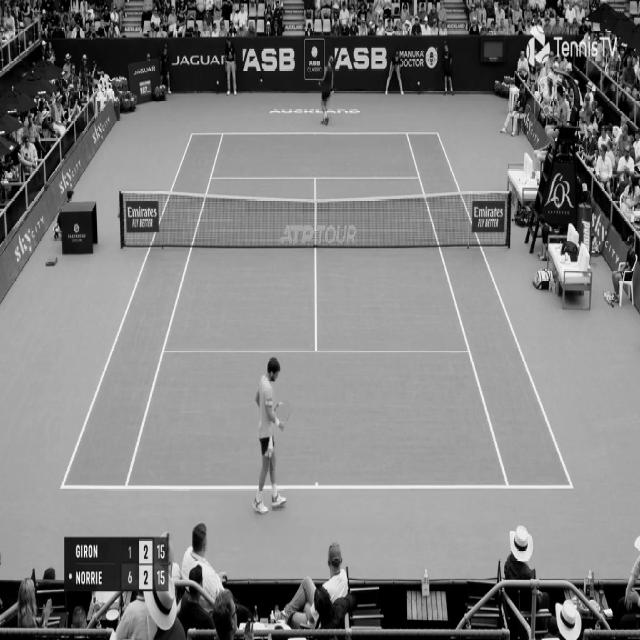tennis-court: (60, 133, 574, 488)
